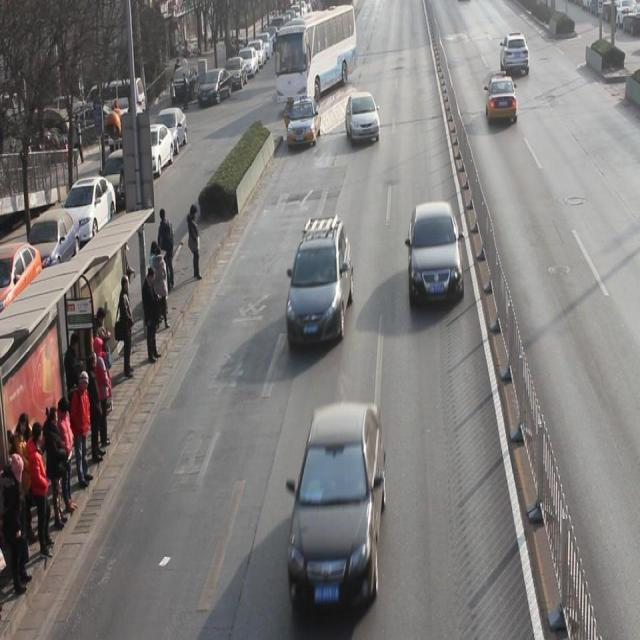car: (286, 401, 386, 609), (287, 216, 352, 349), (407, 202, 465, 308), (344, 92, 380, 146), (287, 96, 322, 149), (486, 74, 518, 124), (501, 32, 530, 76)
van: (274, 11, 354, 106)
